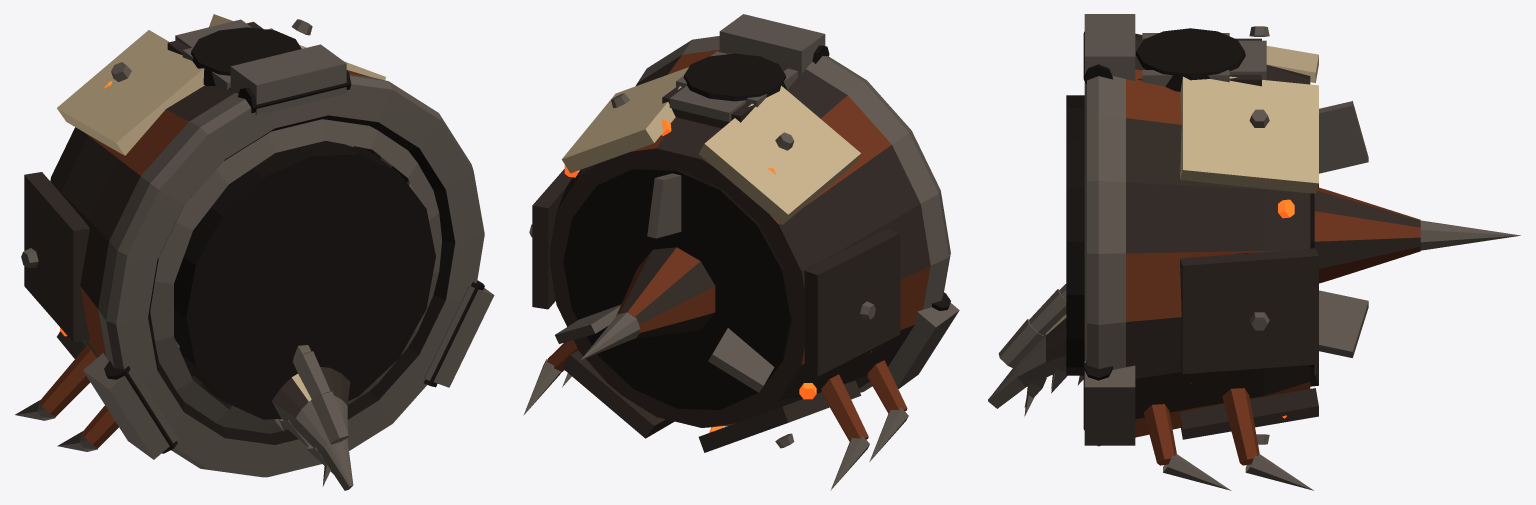
File: worm.glb
The picture shows the model from 3 angles, left to right: view 1: azimuth 30°, elevation 25°; view 2: azimuth 150°, elevation 25°; view 3: azimuth 270°, elevation 25°; orthographic projection. The views are drawn at different scales.
Visible parts, largest first — view 1: Worm_Head, Worm_Segment, Worm_Jaw; view 2: Worm_Head, Worm_Segment, Worm_Tail; view 3: Worm_Head, Worm_Segment, Worm_Tail, Worm_Jaw.
Boxes of the visible parts, left/top/right/bottom form: Worm_Head: left=21, top=14, right=494, bottom=477; Worm_Segment: left=15, top=19, right=441, bottom=451; Worm_Jaw: left=96, top=345, right=353, bottom=490; Worm_Head: left=529, top=14, right=959, bottom=452; Worm_Segment: left=523, top=51, right=908, bottom=490; Worm_Tail: left=555, top=173, right=774, bottom=392; Worm_Head: left=1083, top=14, right=1318, bottom=446; Worm_Segment: left=1066, top=28, right=1314, bottom=490; Worm_Tail: left=1314, top=101, right=1520, bottom=357; Worm_Jaw: left=988, top=284, right=1191, bottom=416.
Bounding box in the file's own units: 9.41 × 9.33 × 11.6.
